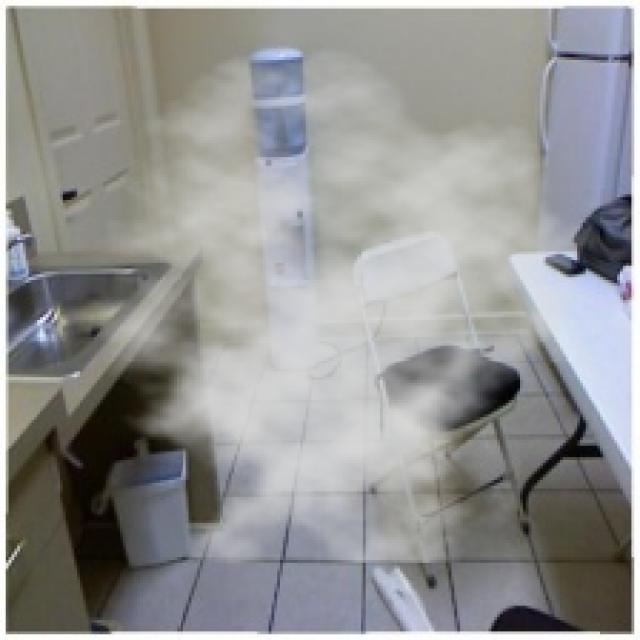smoke: (43, 46, 600, 563)
